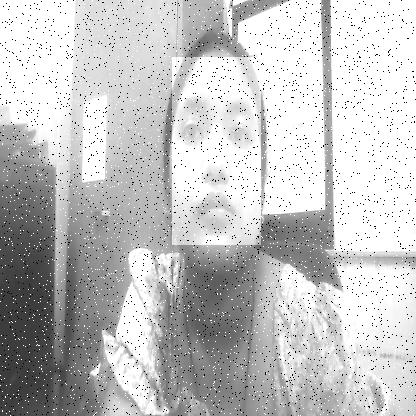Distracted: (172, 57, 261, 245)
